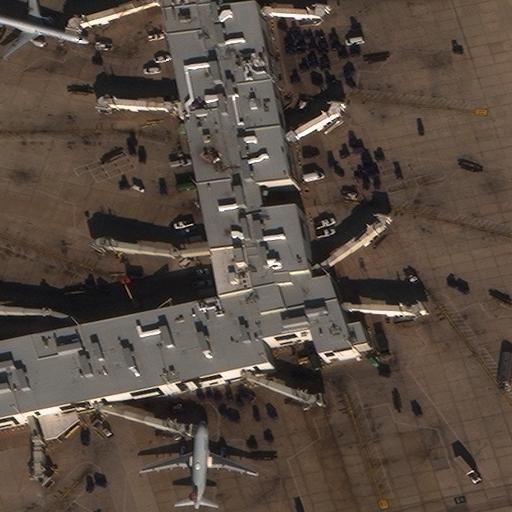Medium Civil Transport: (140, 420, 257, 509), (0, 0, 89, 57)
